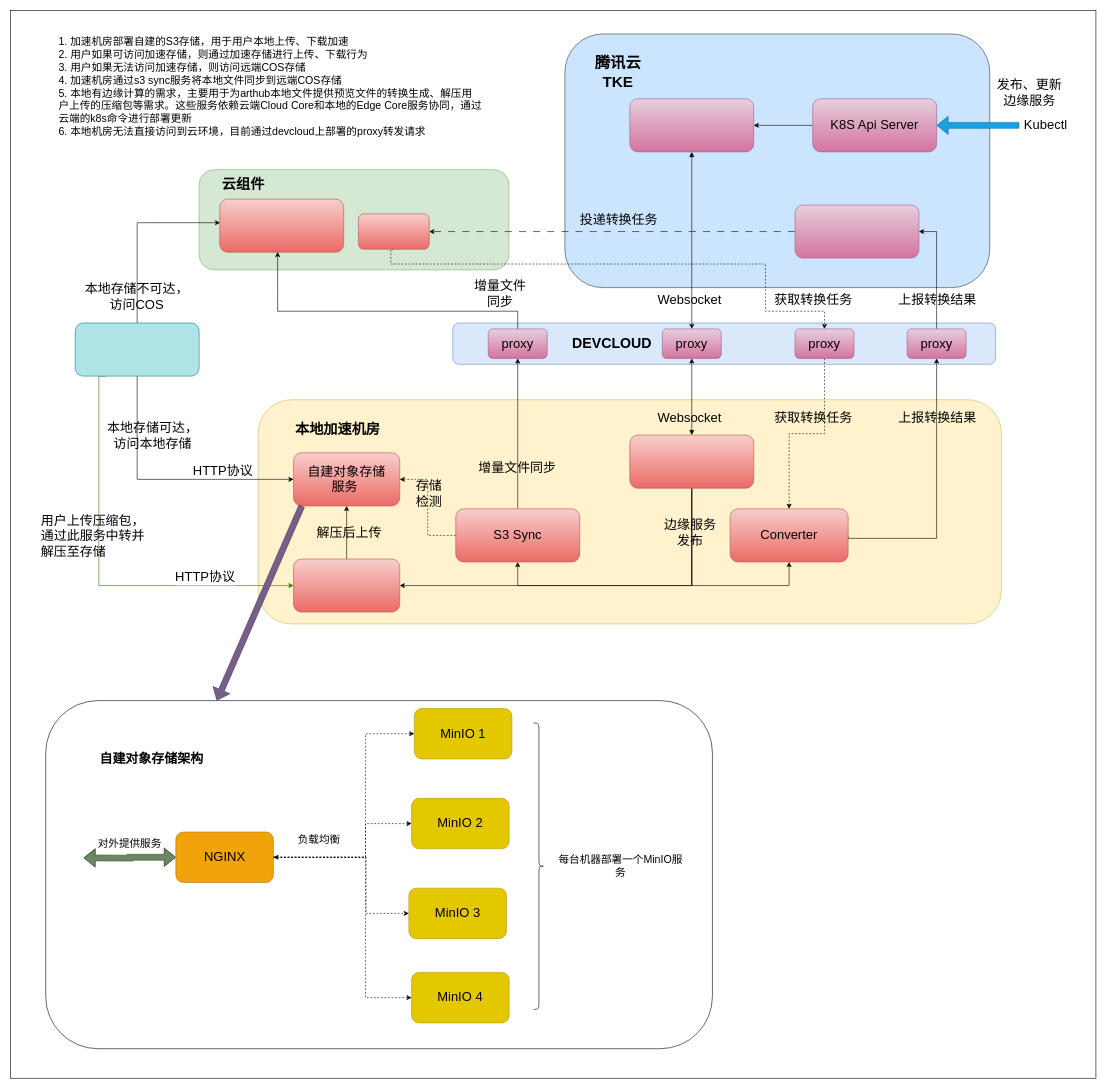
Image size: 1106x1089. Some labels were removed from this diagram. Each missing label, with the centre of its shape:
"Client" belongs at (x=137, y=349).
"Client Proxy" belongs at (x=346, y=585).
"Cloud Core" belongs at (x=691, y=125).
"Converter-Scheduler" belongs at (x=856, y=231).
"COS" belongs at (x=281, y=225).
"Edge Core" belongs at (x=691, y=461).
"redis stream" belongs at (x=393, y=231).
